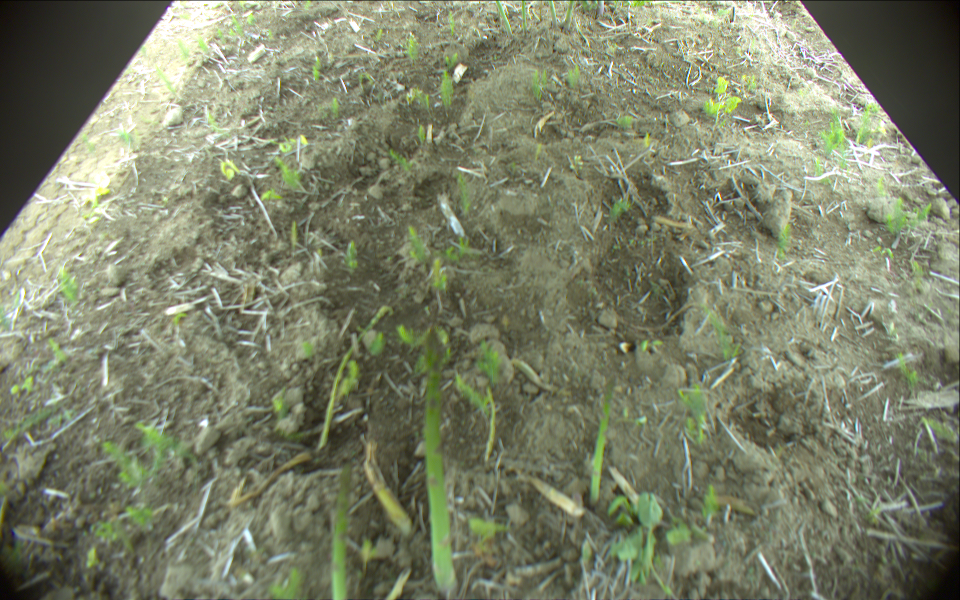aspa: (322, 305, 392, 452), (421, 329, 459, 592), (588, 376, 616, 501), (330, 466, 354, 600), (496, 1, 513, 33), (563, 1, 573, 28), (549, 1, 558, 24), (520, 1, 526, 27), (596, 1, 603, 18)
